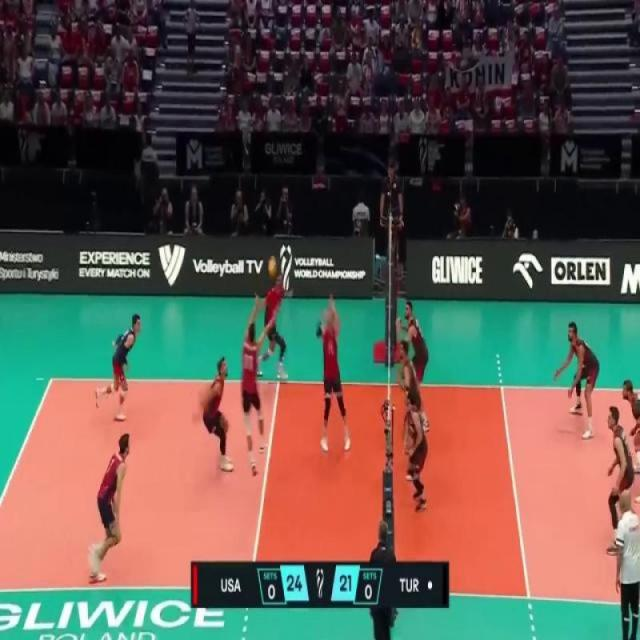volleyball: (266, 253, 278, 282)
